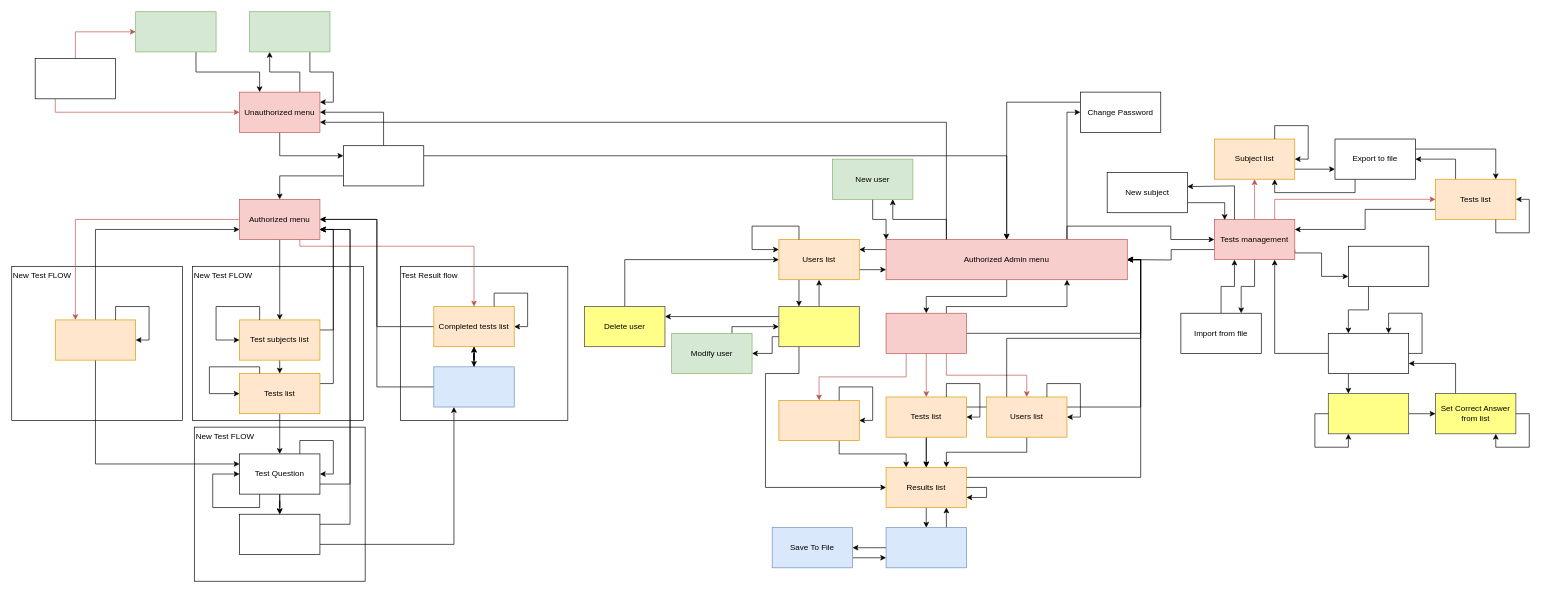
Some shapes in this 1546 by 593 pixel diagram are drawn without their labels. The centre of each missing label's shape, as x and y in pixels:
Create Admin User: the point at 175,31
Create User: the point at 289,31
DataBase path: the point at 75,78
Login: the point at 383,165
MessageScene: the point at 279,534
New Asnwer: the point at 1368,413
New Question: the point at 1368,353
New tests: the point at 1388,266
Result: the point at 925,547
Subjects list: the point at 818,420
Test Result: the point at 473,386
Unfinished tests list: the point at 95,339
User Page: the point at 818,326
View Result: the point at 925,333
